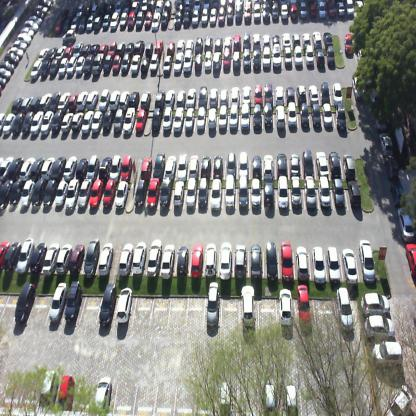car: (371, 340, 404, 370), (61, 289, 86, 326), (385, 383, 412, 415), (364, 315, 395, 342), (46, 290, 69, 326), (335, 286, 353, 332), (96, 288, 118, 324), (360, 289, 390, 315), (16, 236, 35, 277), (39, 367, 57, 410), (354, 240, 374, 277), (114, 289, 136, 322), (13, 289, 36, 320), (145, 240, 165, 275), (324, 242, 342, 280), (202, 293, 221, 329), (396, 206, 416, 240), (240, 283, 255, 328), (95, 375, 112, 414), (28, 242, 48, 275), (41, 239, 60, 273), (68, 240, 87, 274), (297, 282, 311, 327), (58, 375, 75, 412), (76, 176, 94, 210), (144, 177, 162, 211), (293, 243, 311, 277), (3, 240, 21, 274), (53, 241, 72, 273), (82, 240, 100, 273), (340, 241, 356, 278), (88, 174, 105, 208), (278, 244, 295, 278), (310, 242, 326, 278), (278, 288, 293, 326), (160, 241, 177, 274), (174, 243, 191, 276), (203, 241, 218, 278), (170, 176, 186, 210), (188, 242, 204, 276), (263, 243, 279, 277), (344, 176, 362, 206), (234, 241, 249, 277), (65, 176, 81, 209), (113, 177, 129, 210), (156, 178, 172, 211), (132, 240, 148, 273), (217, 242, 233, 275), (100, 178, 116, 210), (96, 244, 113, 274), (248, 240, 263, 274), (316, 177, 332, 208), (314, 148, 330, 178), (118, 242, 134, 272), (404, 240, 416, 280), (390, 179, 406, 209), (263, 382, 277, 415), (133, 177, 146, 212), (73, 154, 91, 179), (42, 178, 57, 208), (341, 149, 357, 177), (20, 179, 36, 207), (84, 153, 101, 179), (330, 179, 345, 208), (197, 179, 211, 210), (288, 180, 304, 207), (219, 379, 231, 415), (378, 129, 394, 156), (49, 155, 66, 180), (122, 106, 137, 134), (288, 147, 302, 177), (301, 148, 315, 178), (235, 179, 249, 209), (262, 178, 276, 208), (276, 179, 290, 209), (90, 106, 106, 132), (96, 154, 112, 180), (18, 156, 34, 182), (286, 381, 298, 415), (328, 148, 342, 177), (209, 180, 223, 209), (8, 179, 23, 206), (276, 148, 289, 179), (304, 178, 317, 209), (122, 155, 138, 180), (0, 237, 12, 270), (101, 107, 115, 135), (112, 107, 126, 135), (80, 108, 94, 136), (332, 101, 347, 127), (186, 152, 201, 178), (384, 154, 399, 180), (30, 180, 45, 206), (109, 155, 125, 179), (8, 156, 24, 180), (248, 150, 262, 177), (184, 179, 196, 210), (133, 108, 147, 134), (149, 154, 163, 180), (40, 110, 54, 136), (138, 155, 153, 179), (263, 147, 275, 177), (249, 179, 261, 209), (150, 106, 163, 133), (164, 152, 178, 177), (199, 152, 213, 177), (210, 152, 224, 177), (63, 155, 77, 180), (42, 155, 56, 180), (50, 110, 64, 135), (2, 111, 16, 136), (224, 179, 236, 208), (0, 180, 11, 211), (55, 180, 68, 206), (174, 153, 188, 177), (224, 150, 236, 178), (0, 156, 14, 180), (353, 72, 364, 102), (31, 155, 44, 180), (194, 107, 206, 133), (30, 112, 43, 136), (60, 112, 74, 134), (162, 107, 174, 132), (238, 105, 250, 130), (237, 152, 249, 177), (72, 110, 84, 135), (66, 53, 78, 78), (12, 112, 24, 136), (311, 102, 322, 128), (321, 104, 334, 126), (343, 31, 354, 57), (173, 50, 184, 76), (262, 105, 274, 128), (274, 105, 286, 128), (298, 105, 310, 128), (98, 88, 110, 111), (82, 53, 94, 76), (332, 81, 343, 106), (184, 106, 194, 133), (272, 42, 282, 69), (216, 107, 227, 131), (229, 86, 241, 108), (184, 86, 196, 108), (76, 89, 88, 111), (58, 90, 70, 112), (20, 113, 32, 135), (314, 47, 326, 69), (30, 58, 42, 80), (174, 108, 184, 134), (86, 90, 99, 110), (252, 48, 262, 74), (150, 10, 161, 33), (49, 90, 61, 111), (252, 105, 262, 130), (262, 46, 272, 71), (39, 93, 52, 112), (205, 108, 216, 130), (228, 106, 239, 128), (282, 48, 293, 70), (58, 56, 69, 78), (20, 95, 33, 113), (183, 48, 192, 74), (286, 105, 297, 126), (320, 81, 330, 104), (274, 84, 284, 107), (162, 53, 172, 76), (140, 54, 150, 77), (252, 0, 262, 23), (261, 2, 271, 25), (164, 88, 176, 107), (154, 88, 166, 107), (108, 10, 120, 29), (121, 51, 130, 76), (61, 30, 77, 44), (25, 18, 39, 34), (242, 84, 252, 106), (198, 84, 208, 106), (326, 46, 336, 68), (304, 44, 314, 66), (130, 52, 140, 74), (49, 59, 60, 79), (264, 81, 273, 105), (294, 45, 303, 69), (280, 30, 292, 48), (285, 85, 295, 106), (40, 57, 50, 78), (308, 83, 319, 102), (254, 82, 263, 105), (242, 49, 251, 72), (76, 52, 85, 75), (118, 91, 130, 108), (12, 96, 24, 113), (208, 86, 218, 106), (110, 90, 120, 110), (312, 30, 322, 50), (232, 50, 240, 75), (150, 51, 158, 76), (103, 54, 113, 74), (160, 9, 170, 29), (328, 0, 338, 20), (297, 82, 306, 104), (213, 50, 222, 72), (112, 53, 121, 75), (234, 3, 243, 25), (6, 52, 20, 66), (9, 44, 23, 58), (1, 59, 14, 74), (204, 49, 212, 73), (69, 93, 79, 112), (323, 29, 333, 48), (223, 46, 230, 73), (194, 34, 203, 55), (182, 8, 191, 29), (194, 53, 202, 76), (218, 5, 226, 28), (129, 89, 139, 107), (29, 96, 41, 111), (154, 39, 164, 57), (134, 38, 144, 56), (74, 38, 84, 56), (55, 44, 67, 59), (54, 18, 64, 36), (127, 9, 136, 29), (136, 10, 145, 30), (143, 10, 152, 30), (191, 8, 200, 28), (317, 0, 327, 18), (174, 10, 182, 32), (244, 1, 252, 23), (85, 14, 94, 33), (124, 39, 134, 56), (70, 15, 80, 32), (101, 13, 111, 30), (345, 0, 355, 17), (18, 32, 31, 45), (21, 26, 34, 39), (0, 68, 12, 82), (30, 12, 42, 26), (48, 45, 59, 60), (67, 4, 78, 19), (177, 88, 186, 106), (224, 33, 233, 51), (204, 34, 213, 52), (272, 1, 279, 24), (220, 87, 228, 107), (291, 30, 301, 46), (252, 30, 260, 50), (145, 39, 153, 59), (116, 41, 126, 57), (108, 39, 118, 55), (90, 39, 100, 55), (93, 14, 103, 30), (14, 38, 27, 50), (140, 91, 151, 105), (99, 40, 110, 54), (38, 46, 49, 60), (65, 44, 76, 58), (214, 35, 222, 54), (119, 10, 127, 29), (201, 7, 209, 26), (280, 3, 288, 22), (290, 4, 298, 23), (77, 16, 87, 31), (98, 1, 108, 16), (226, 4, 233, 25), (262, 32, 271, 48), (209, 7, 217, 25), (299, 2, 307, 20), (233, 33, 240, 53), (184, 38, 194, 52), (82, 42, 92, 56), (242, 31, 250, 48), (176, 38, 185, 53), (74, 3, 83, 18), (303, 30, 310, 49), (34, 9, 46, 20), (37, 2, 48, 14), (82, 4, 92, 17), (166, 40, 174, 56), (337, 0, 345, 15), (174, 0, 184, 12), (309, 2, 316, 19), (272, 33, 280, 47), (64, 18, 72, 32), (40, 0, 51, 10), (106, 2, 115, 14), (90, 4, 98, 17), (163, 0, 172, 11), (60, 4, 68, 16), (155, 0, 164, 9), (148, 0, 156, 10), (123, 0, 131, 9), (184, 0, 193, 8), (115, 0, 122, 10), (0, 77, 6, 88), (132, 0, 140, 8), (212, 0, 220, 8), (203, 0, 210, 8), (141, 0, 147, 9), (194, 0, 200, 8)
